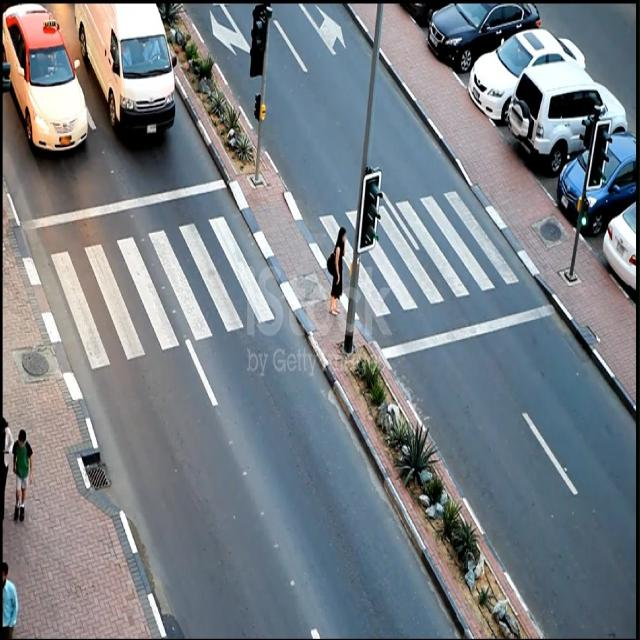pedestrian: (13, 429, 32, 493), (13, 429, 31, 488), (14, 499, 23, 519), (15, 502, 23, 519)
